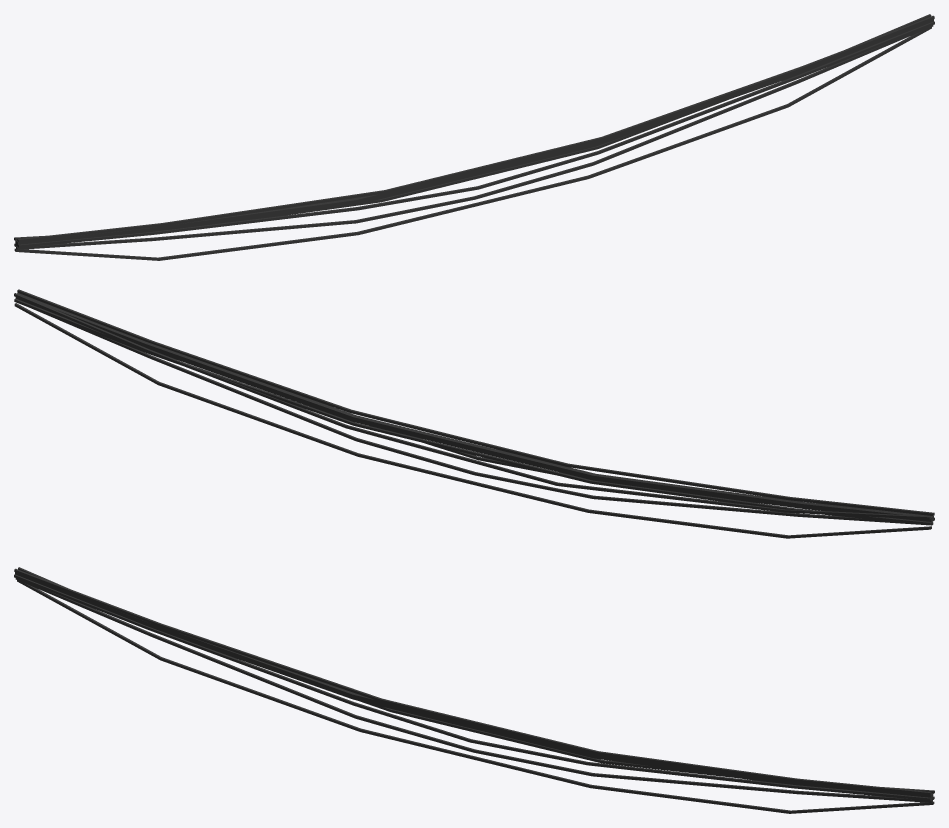
File: SM_BuildingsDecor_15.fbx
The picture shows the model from 3 angles, top to bottom: view 1: azimuth 30°, elevation 25°; view 2: azimuth 150°, elevation 25°; view 3: azimuth 330°, elevation 25°; orthographic projection.
Visible parts, largest first — view 1: SM_BuildingsDecor_15; view 2: SM_BuildingsDecor_15; view 3: SM_BuildingsDecor_15.
Part boxes in pixels (left/top/right/bottom): SM_BuildingsDecor_15: left=14, top=14, right=934, bottom=260; SM_BuildingsDecor_15: left=14, top=289, right=934, bottom=538; SM_BuildingsDecor_15: left=14, top=567, right=934, bottom=813.
Bounding box in the file's own units: 10 × 0.8424 × 0.2198.
